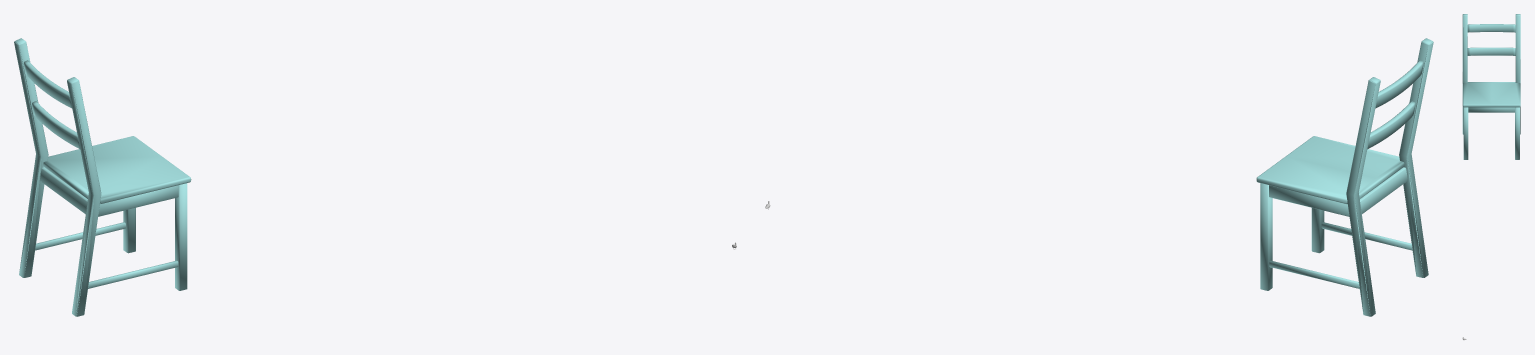
The model's file is duck.obj.
The picture shows the model from 3 angles, left to right: view 1: azimuth 30°, elevation 25°; view 2: azimuth 150°, elevation 25°; view 3: azimuth 270°, elevation 25°; orthographic projection. The views are drawn at different scales.
Parts seen in each view (by area): view 1: Legs, Cover; view 2: Legs, Cover; view 3: Legs, Cover.
Part boxes in pixels (box(x1,y1,x2,y2)): Legs: box(14, 38, 187, 316); Cover: box(43, 136, 191, 204); Legs: box(1260, 38, 1433, 316); Cover: box(1256, 136, 1404, 203); Legs: box(1462, 14, 1520, 159); Cover: box(1462, 82, 1520, 107).
Bounding box in the file's own units: 791 × 375 × 120.
